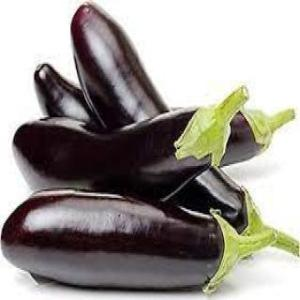eggplant: (32, 60, 270, 158), (5, 190, 235, 290), (10, 102, 228, 190)
